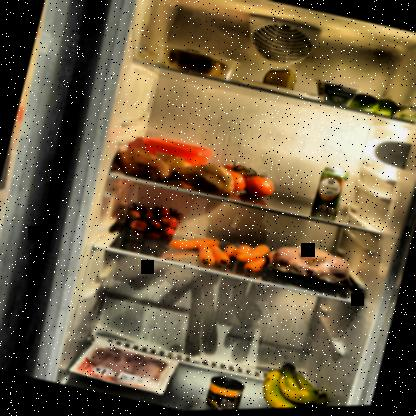banana: (250, 353, 340, 409)
butter: (134, 130, 219, 177)
carrot: (165, 221, 276, 285)
cheese: (260, 64, 302, 97)
chicken: (264, 237, 361, 302)
corn: (203, 374, 251, 410)
heavy_cream: (308, 162, 351, 224)
lime: (346, 90, 405, 122)
potato: (155, 38, 246, 87)
strawberries: (119, 194, 184, 247)
sweet_potato: (111, 140, 240, 203)
tomato: (214, 157, 278, 207)
